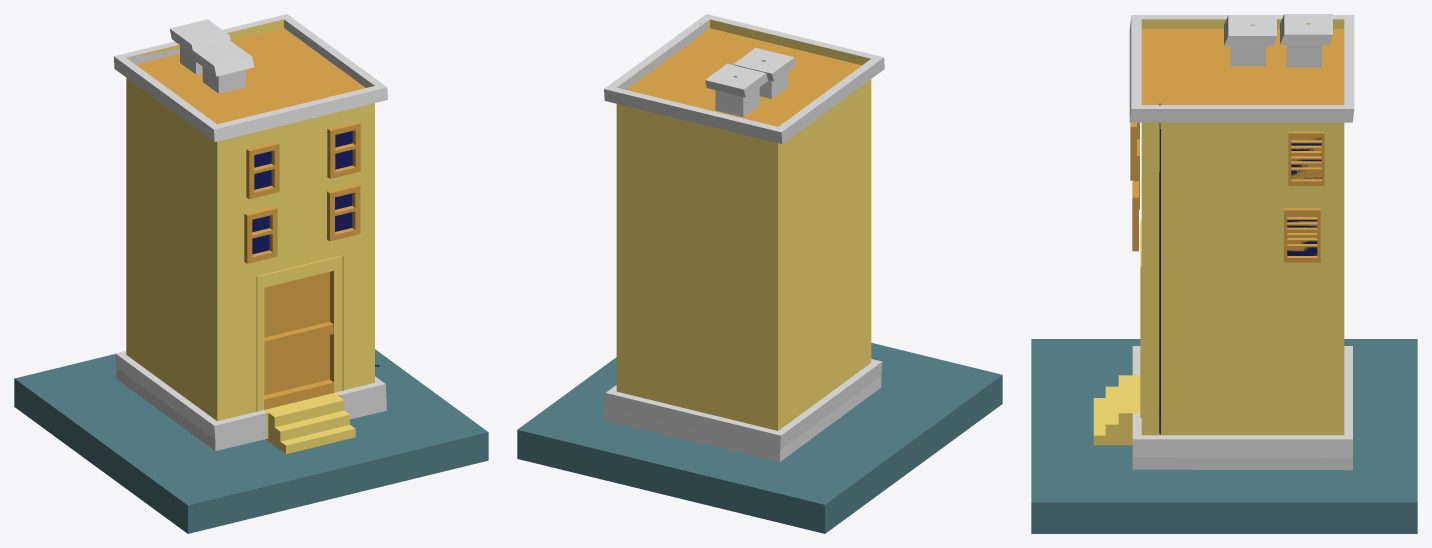
The picture shows the model from 3 angles, left to right: view 1: azimuth 30°, elevation 25°; view 2: azimuth 150°, elevation 25°; view 3: azimuth 270°, elevation 25°; orthographic projection. The views are drawn at different scales.
Parts seen in each view (by area): view 1: Cylinder; view 2: Cylinder; view 3: Cylinder.
Boxes of the visible parts, box(x1,y1,x2,y2) form: Cylinder: box(14, 14, 488, 533); Cylinder: box(517, 14, 1002, 533); Cylinder: box(1031, 14, 1417, 533).
Bounding box in the file's own units: 2.72 × 2.72 × 3.26.
